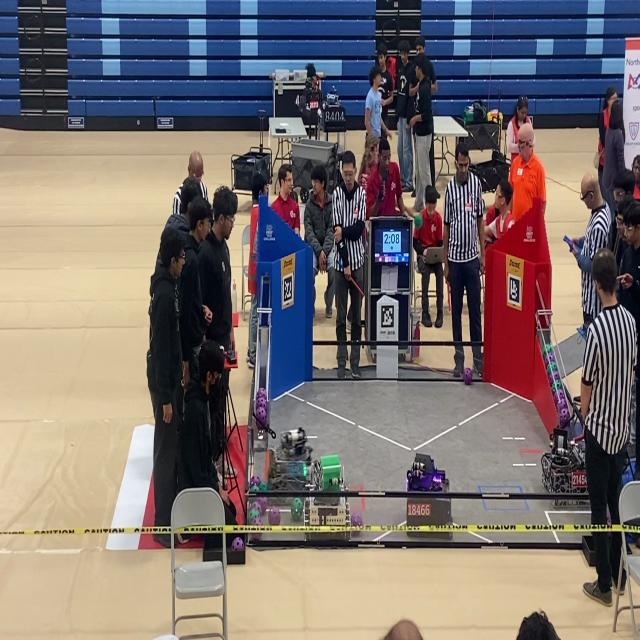artifact_green: (291, 498, 303, 521), (256, 496, 268, 515), (250, 500, 263, 516), (248, 509, 260, 522), (414, 213, 423, 229), (547, 361, 557, 375), (552, 380, 563, 392), (250, 476, 261, 487), (543, 344, 552, 354), (259, 482, 268, 491), (251, 518, 261, 526), (250, 486, 259, 493)
artifact_purple: (255, 407, 266, 430), (268, 507, 280, 526), (231, 536, 245, 552), (250, 499, 263, 515), (560, 409, 570, 427), (257, 496, 267, 514), (351, 512, 363, 527), (556, 388, 567, 404), (556, 399, 568, 413), (351, 512, 363, 526), (544, 352, 555, 367), (554, 390, 564, 406), (549, 371, 560, 385), (463, 368, 472, 385), (250, 476, 261, 488), (256, 397, 266, 408), (256, 388, 266, 399), (251, 518, 261, 526), (544, 354, 550, 367), (549, 352, 555, 362)
